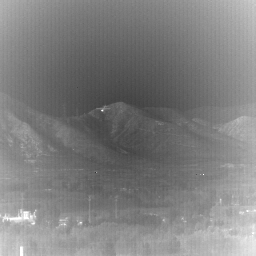aircraft: (102, 110, 104, 112)
